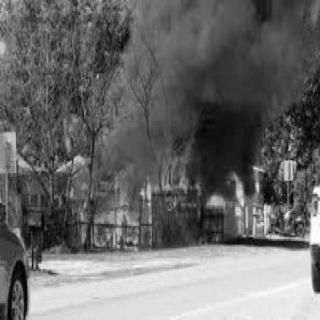Fire: (61, 148, 207, 250)
